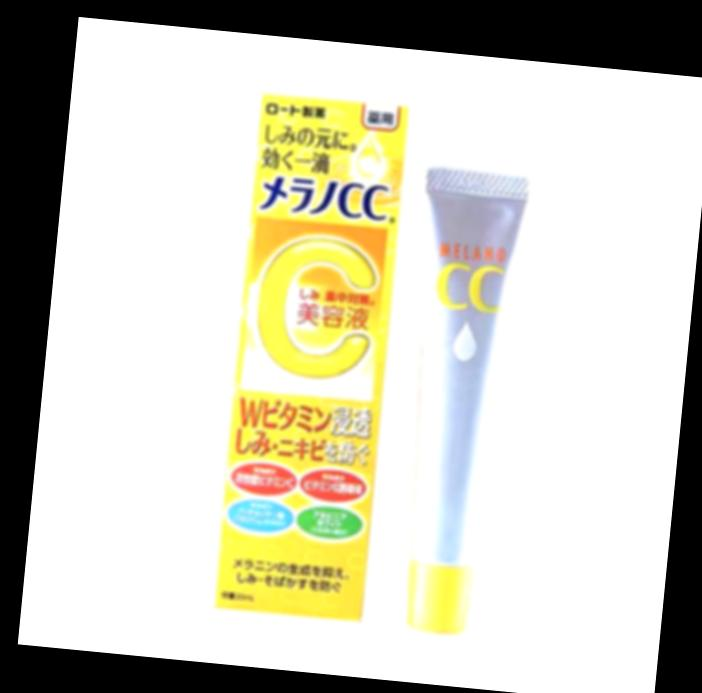cosmetic: (377, 165, 530, 637)
